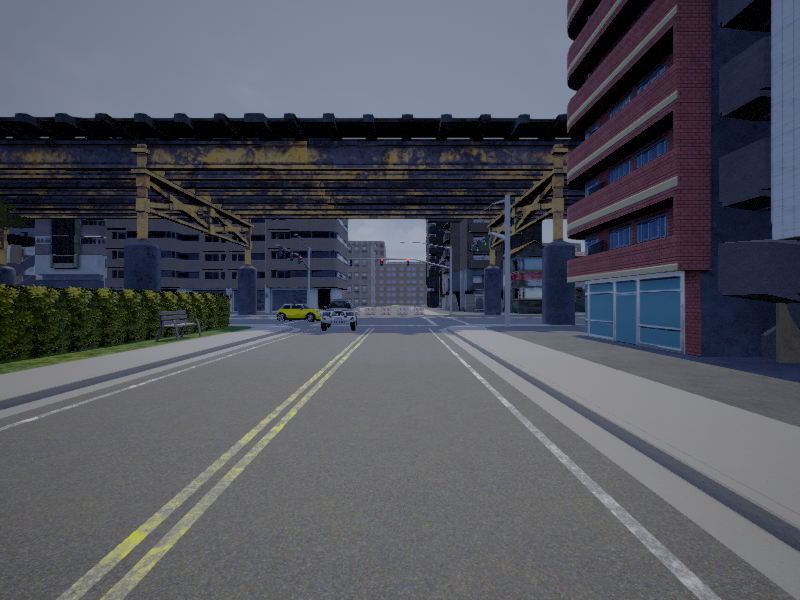Benign: (321, 299, 360, 331), (276, 302, 323, 322)
